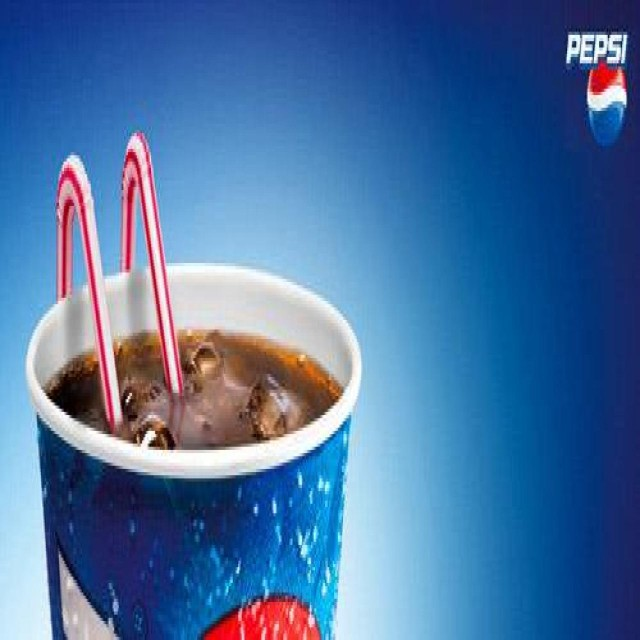pepsi: (586, 46, 628, 153)
